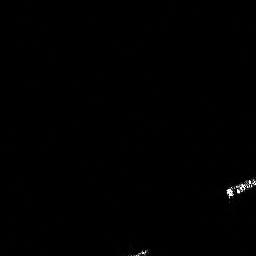ship: (224, 175, 256, 202)
